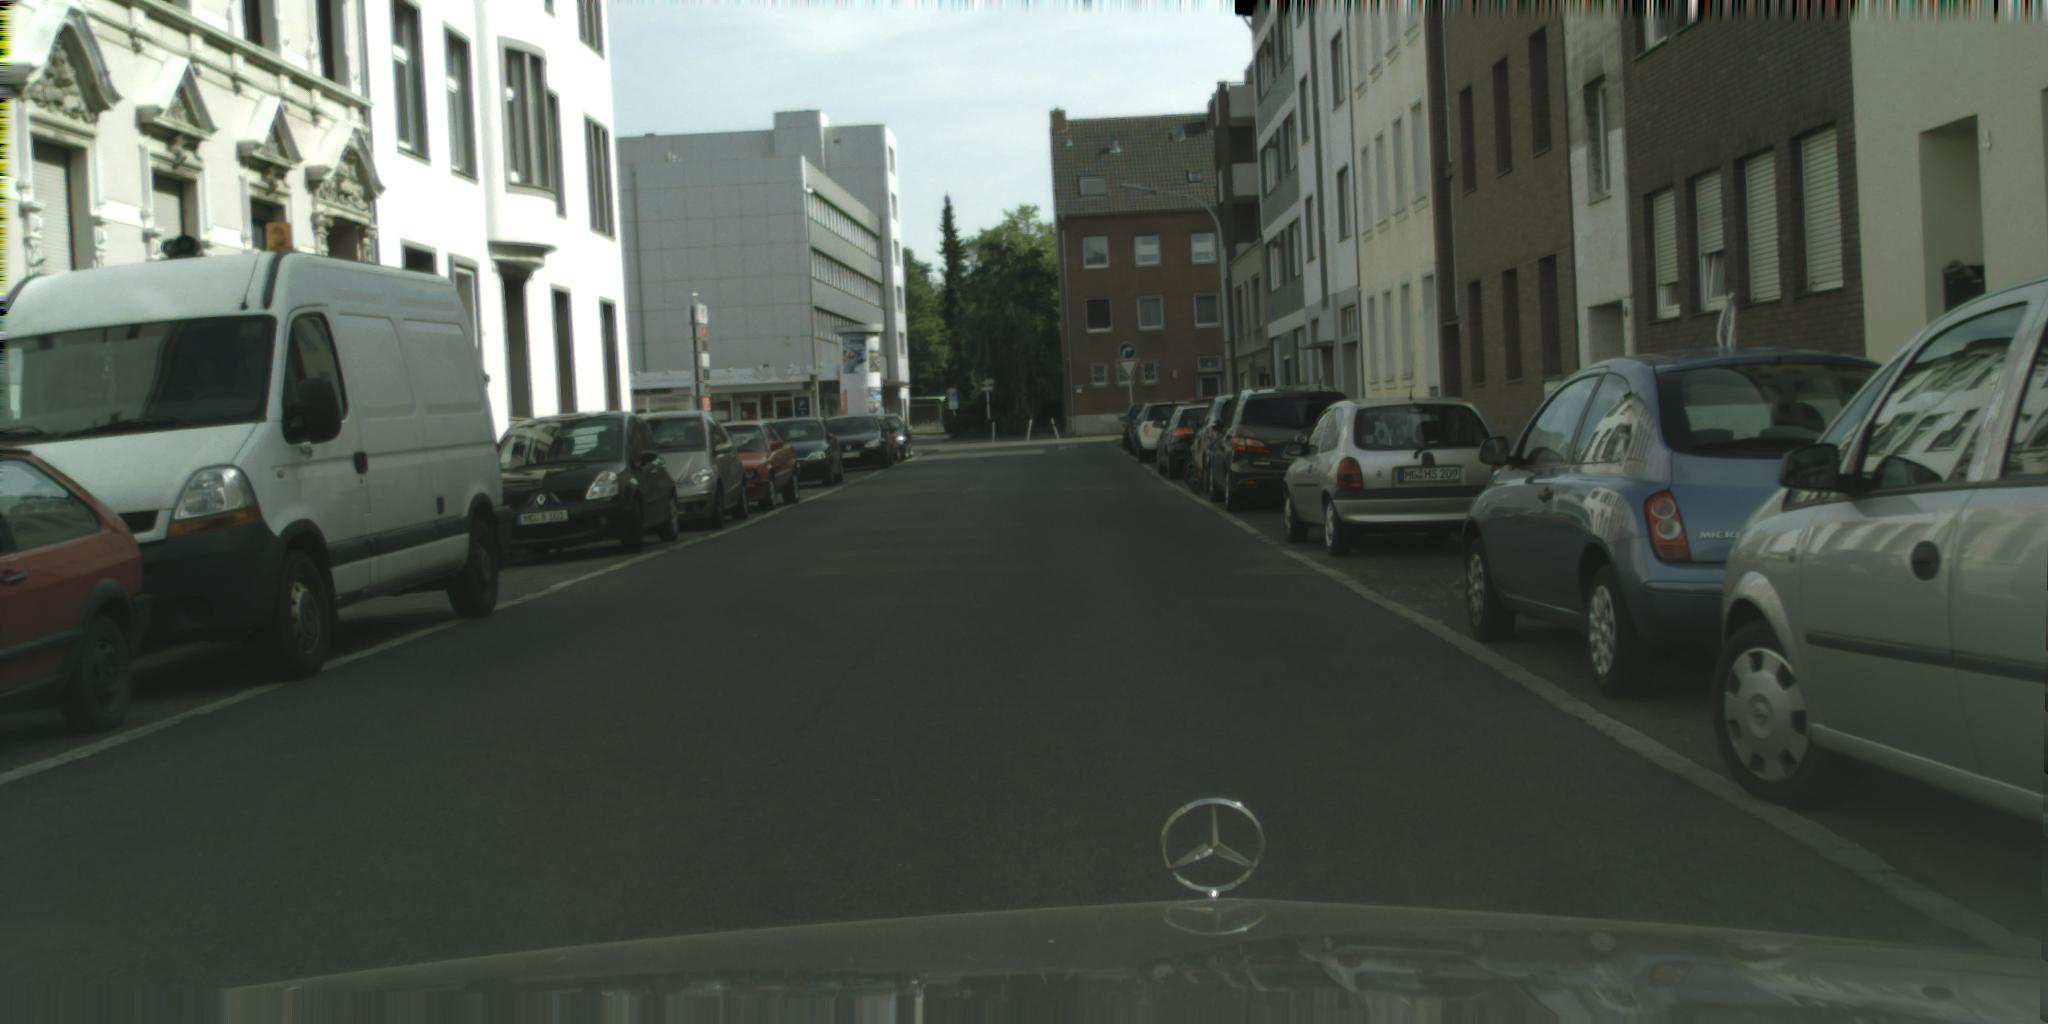car: (1, 223, 516, 680), (1711, 273, 2048, 839), (1463, 347, 1927, 695), (1, 448, 148, 734), (1281, 397, 1511, 558), (485, 411, 680, 568), (630, 411, 751, 532), (708, 422, 801, 512), (758, 417, 845, 488)
